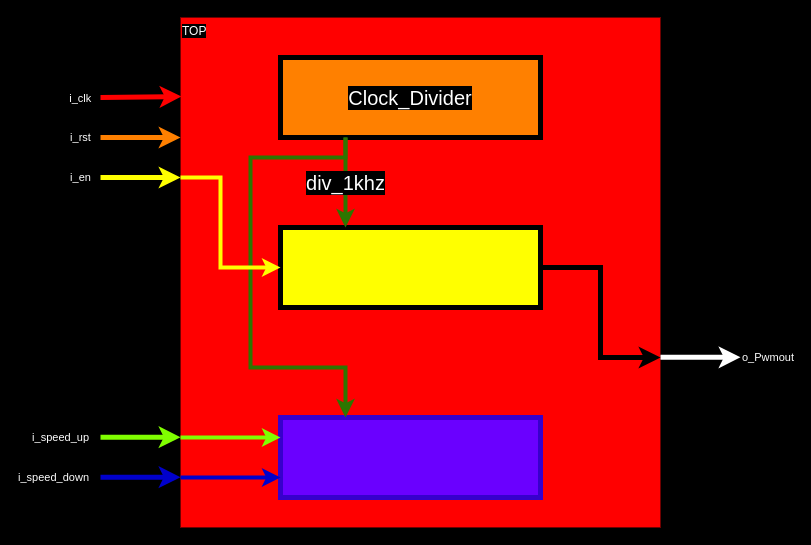
This 811x545 diagram has some shape labels left out. The box of each missing label's shape, as (x1, y1, x2, y2) in pixels:
PWM: (278, 224, 542, 310)
Speed_control: (278, 414, 542, 500)
